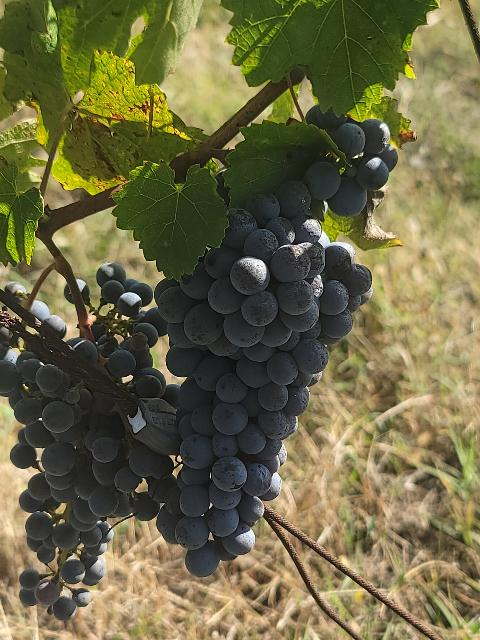grapes: (158, 181, 371, 575), (0, 266, 172, 620), (304, 105, 398, 218)
